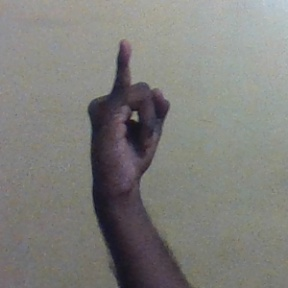I: (88, 40, 174, 188)
